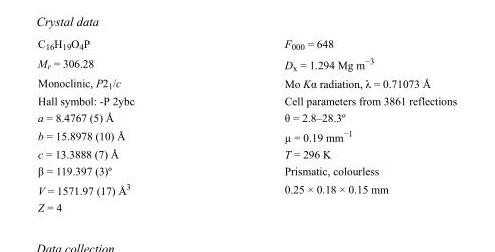table: (37, 36, 456, 213)
table column: (208, 36, 456, 213), (37, 36, 208, 213)
table row: (37, 53, 456, 74), (37, 125, 456, 145), (37, 178, 456, 198), (37, 74, 456, 92), (37, 36, 456, 53), (37, 108, 456, 125), (37, 161, 456, 178), (37, 92, 456, 108), (37, 145, 456, 161), (37, 198, 456, 213)
